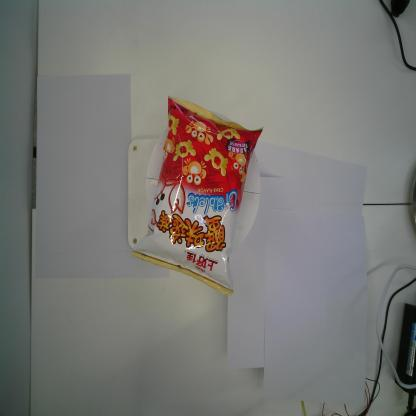Puffed Food: (128, 93, 264, 297)
